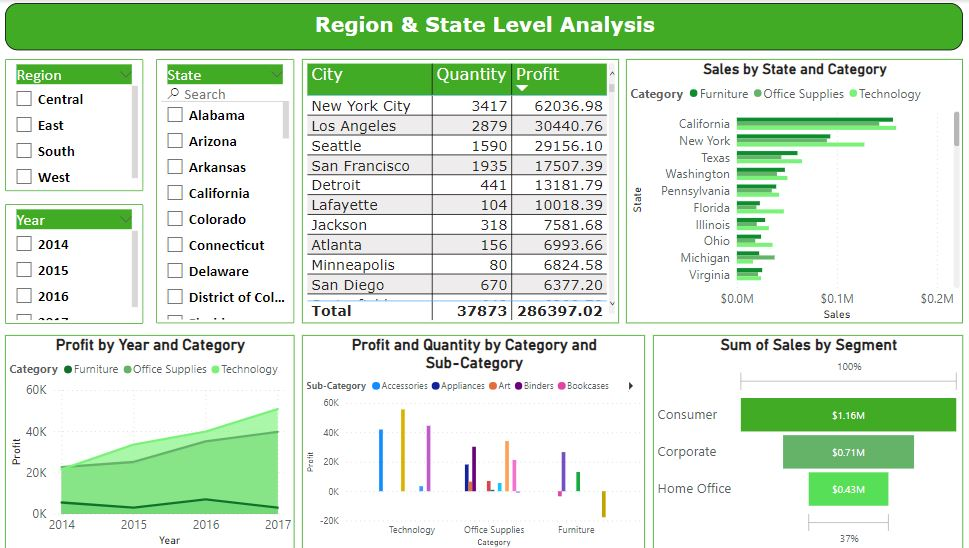

Layout of this report page (visuals, bound fields, positions):
{"tool":"powerbi","page":{"name":"Region & State Dashboard","canvas":[1280,720],"ordinal":1},"visuals":[{"type":"textbox","box":[13,4,1254.2,61.9],"z":0},{"type":"slicer","fields":{"Values":["Orders.Region"]},"box":[13,77.8,181.4,172.8],"z":1000},{"type":"slicer","fields":{"Values":["Orders.State"]},"box":[210.2,77.8,181.4,345.6],"z":2000},{"type":"slicer","fields":{"Values":["Orders.Year"]},"box":[13,266.4,181.4,157],"z":3000},{"type":"tableEx","fields":{"Values":["Orders.City","Sum(Orders.Quantity)","Sum(Orders.Profit)"]},"box":[401.8,77.8,414.7,345.6],"z":4000},{"type":"clusteredBarChart","fields":{"Category":["Orders.State"],"Series":["Orders.Category"],"Y":["Sum(Orders.Sales)"]},"box":[826.6,77.8,440.6,345.6],"z":5000},{"type":"areaChart","fields":{"Series":["Orders.Category"],"Category":["Orders.Year"],"Y":["Sum(Orders.Profit)"]},"box":[13,439.2,378.7,280.8],"z":6000},{"type":"lineClusteredColumnComboChart","fields":{"Category":["Orders.Category"],"Series":["Orders.Sub-Category"],"Y":["Sum(Orders.Profit)"]},"box":[401.8,439.2,449.3,280.8],"z":7000},{"type":"funnel","fields":{"Category":["Orders.Segment"],"Y":["Sum(Orders.Sales)"]},"box":[861.1,439.2,406.1,280.8],"z":8000}]}

Visuals, with their boxes in screenshot pixels (x1, y1, x2, y2), scaled from the page's 1280x720 canvas onto the 969x548 screenshot:
textbox: 10/3/959/50
slicer - Orders.Region: 10/59/147/191
slicer - Orders.State: 159/59/296/322
slicer - Orders.Year: 10/203/147/322
tableEx - Orders.City x Sum(Orders.Quantity): 304/59/618/322
clusteredBarChart - Orders.State x Orders.Category: 626/59/959/322
areaChart - Orders.Category x Orders.Year: 10/334/297/547
lineClusteredColumnComboChart - Orders.Category x Orders.Sub-Category: 304/334/644/547
funnel - Orders.Segment x Sum(Orders.Sales): 652/334/959/547
